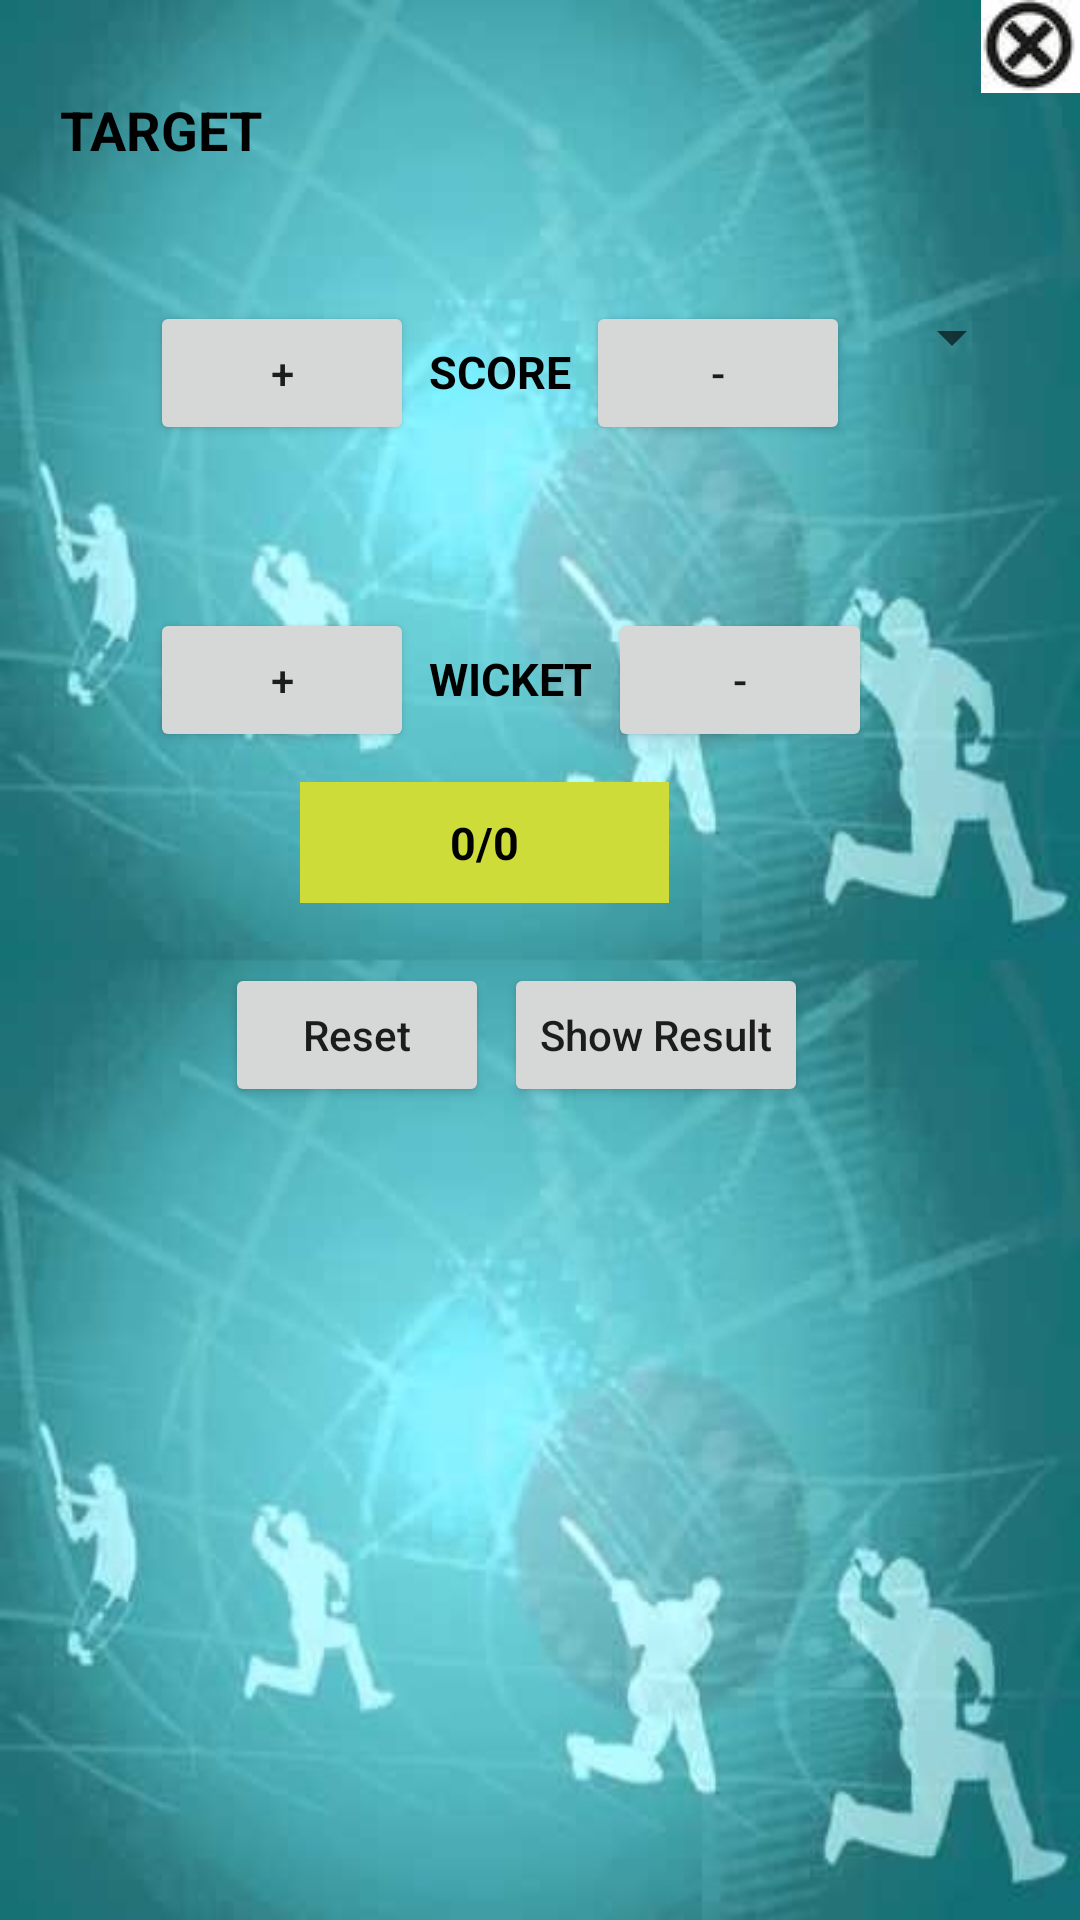

Point at icon controls on the screen. Image size 1080px x 1920px, points as point (x, y).
close: point (1030, 46)
